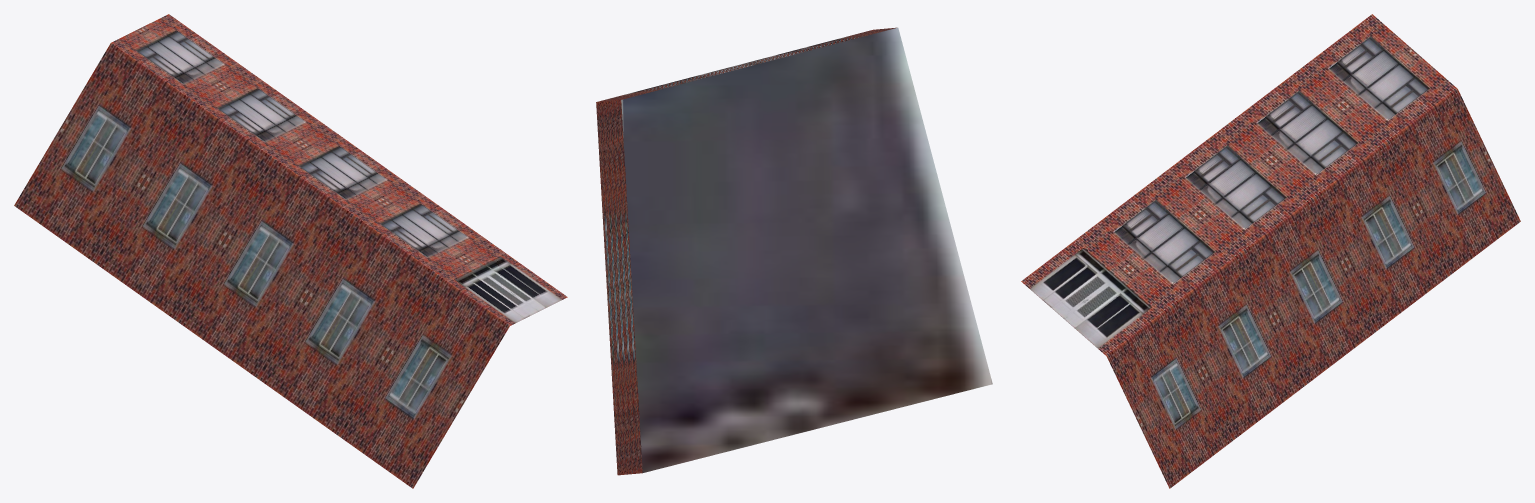
3 views of the same model, side by side, from view 1: azimuth 30°, elevation 25°; view 2: azimuth 150°, elevation 25°; view 3: azimuth 270°, elevation 25° (orthographic). The views are drawn at different scales.
Size of the model in its own units: 15.92 by 15.44 by 19.59.
4 materials, 4 textured.
